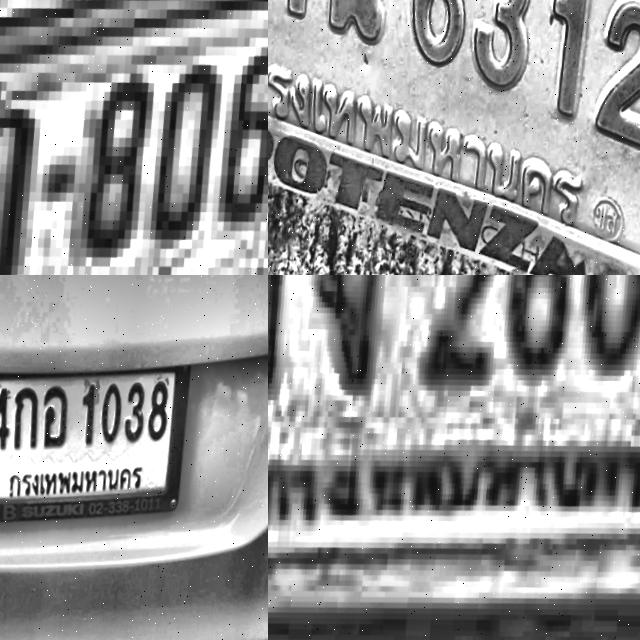license-plate: (268, 275, 640, 640), (268, 0, 640, 275), (0, 0, 268, 275), (0, 337, 196, 552)
